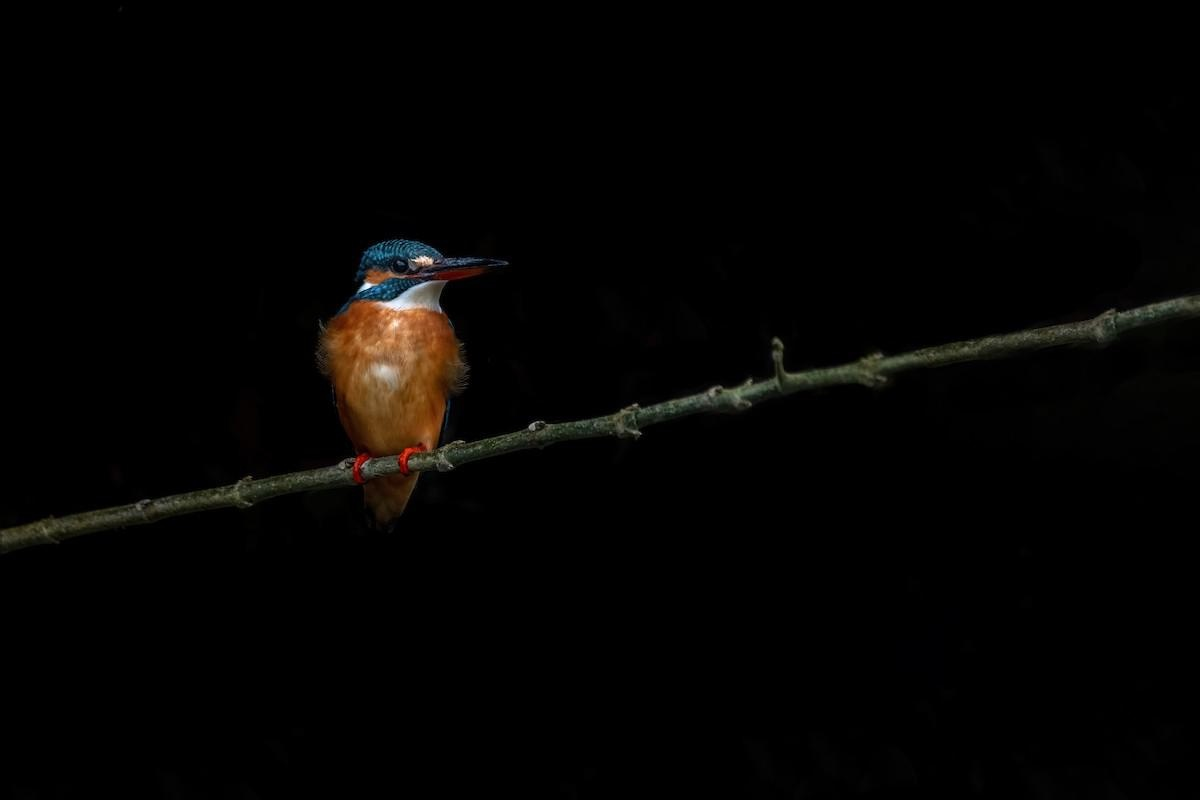kingfisher: (308, 233, 523, 517)
